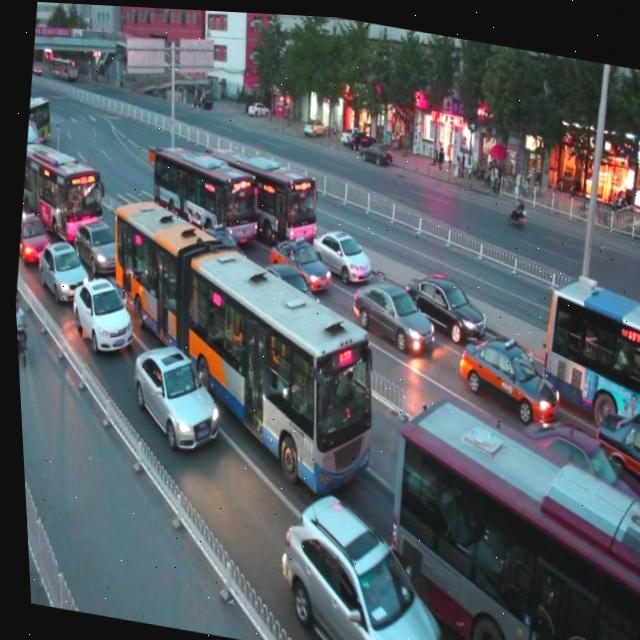car: (259, 478, 451, 640), (488, 400, 640, 535), (448, 319, 563, 427), (121, 335, 222, 451), (342, 266, 436, 355), (398, 260, 490, 340), (62, 270, 136, 353), (260, 224, 332, 295), (304, 214, 373, 285), (186, 218, 253, 282), (252, 252, 320, 314), (34, 235, 90, 309), (586, 395, 640, 470), (69, 213, 123, 276), (13, 204, 52, 267)
van: (81, 186, 395, 499), (365, 377, 640, 640), (529, 262, 640, 419), (140, 133, 265, 255), (198, 135, 325, 250), (14, 134, 109, 239)
